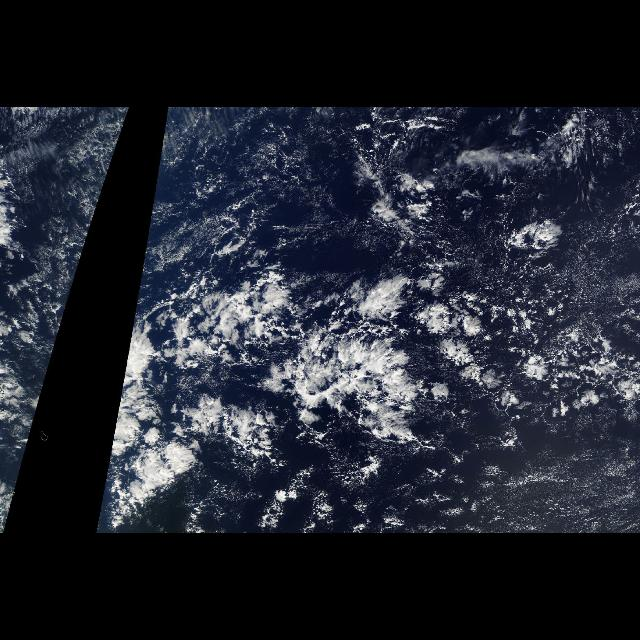Fish: (100, 243, 602, 495)
Gravel: (162, 116, 640, 460)
Sugar: (378, 432, 640, 530), (153, 116, 375, 204), (17, 116, 128, 204)
